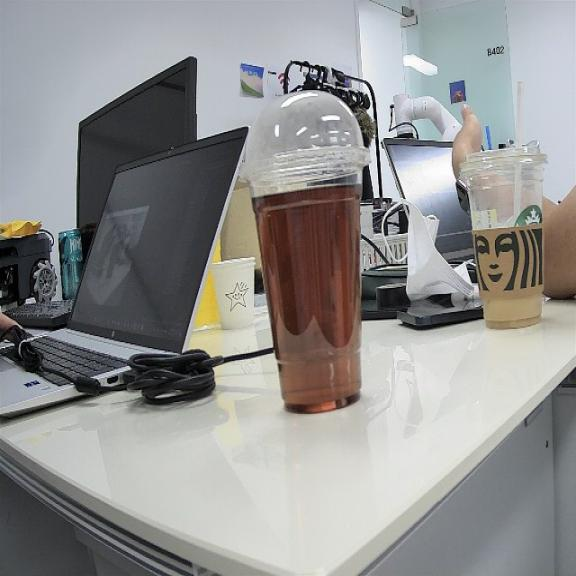Plastik: (248, 90, 368, 412)
